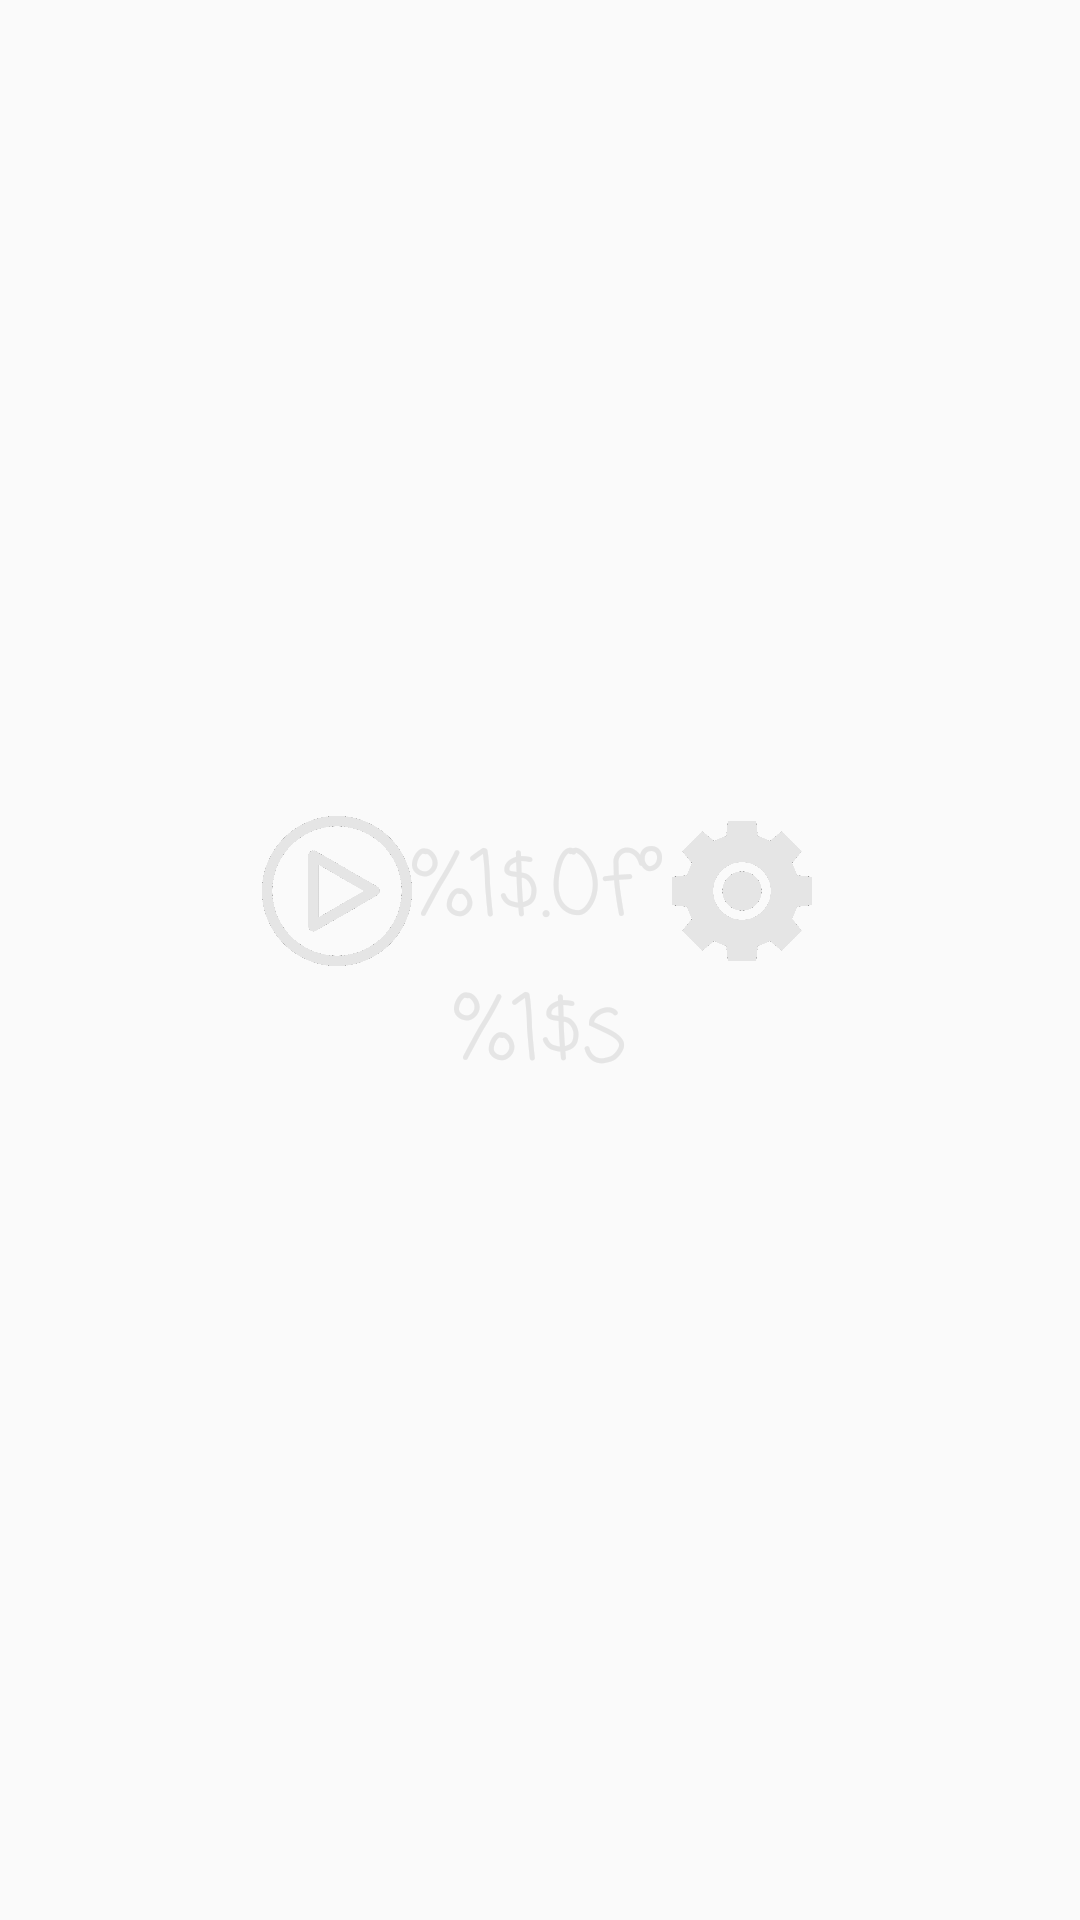

Screen size 1080 × 1920. Icon name, then its center in pixels as (x,y):
start simple: (337,891)
Настройки: (742,891)
